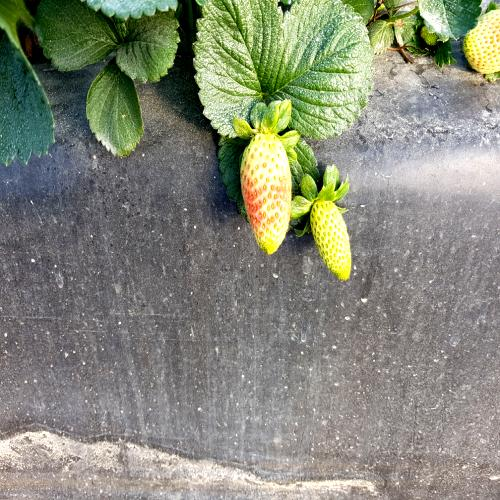partially-ripe: (231, 120, 293, 266)
unripe: (302, 196, 360, 292)
